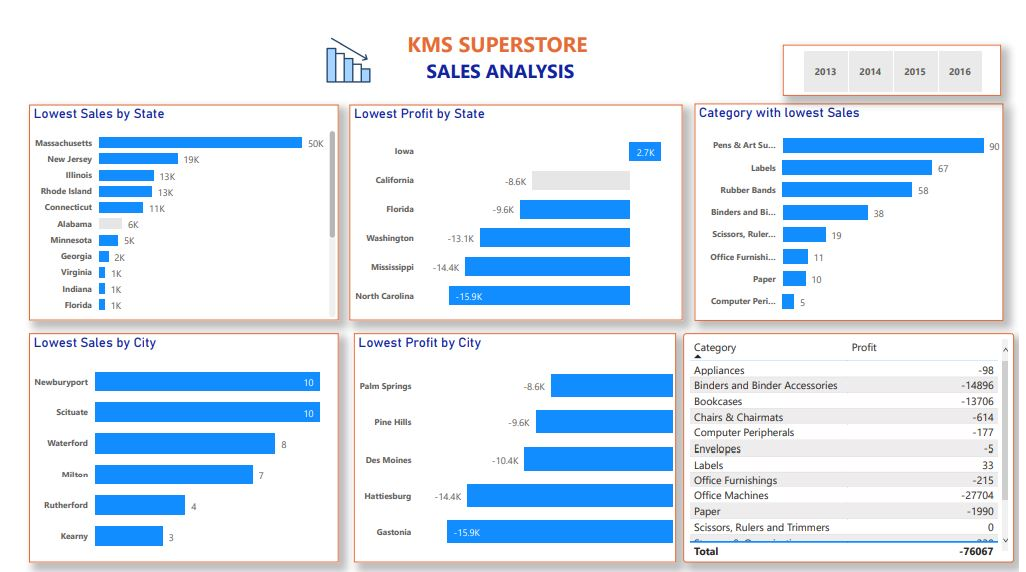

What the dashboard file says about the page in this screenshot:
{"tool":"powerbi","page":{"name":"low sales","canvas":[1280,720],"ordinal":4},"visuals":[{"type":"clusteredBarChart","title":"Lowest Sales by City","fields":{"Y":["Sum(Store.Sales)"],"Category":["Store.City"]},"box":[22.8,400.3,393.3,291.5],"z":0},{"type":"clusteredBarChart","title":" Lowest Sales by State","fields":{"Category":["Store.State"],"Y":["Sum(Store.Sales)"]},"box":[22.8,110.6,393.3,273.9],"z":1000},{"type":"clusteredBarChart","title":"Lowest Profit by State","fields":{"Y":["Sum(Store.Profit)"],"Category":["Store.State"]},"box":[430.2,110.6,423.2,273.9],"z":2000},{"type":"clusteredBarChart","title":"Lowest Profit by City","fields":{"Category":["Store.City"],"Y":["Sum(Store.Profit)"]},"box":[435.4,400.3,409.1,291.5],"z":3000},{"type":"clusteredBarChart","title":"Category with lowest Sales  ","fields":{"Category":["Store.Category"],"Y":["Sum(Store.Sales)"]},"box":[867.4,108.9,391.6,275.7],"z":4000},{"type":"tableEx","title":"Category with lowest profit","fields":{"Values":["Store.Category","Sum(Store.Profit)"]},"box":[853.3,400.3,419.6,291.5],"z":5000},{"type":"textbox","box":[398.1,10.1,446.9,77.6],"z":6000},{"type":"image","box":[380.8,20.1,96.3,67.5],"z":7000},{"type":"slicer","fields":{"Values":["Store.Order Date.Variation.Date Hierarchy.Year"]},"box":[980.1,34.5,277.4,64.7],"z":8000}]}

Visuals, with their boxes in screenshot pixels (x1, y1, x2, y2), scaled from the page's 1280x720 canvas onto the 1026x572 screenshot:
"Lowest Sales by City" clusteredBarChart: [left=18, top=318, right=334, bottom=550]
" Lowest Sales by State" clusteredBarChart: [left=18, top=88, right=334, bottom=305]
"Lowest Profit by State" clusteredBarChart: [left=345, top=88, right=684, bottom=305]
"Lowest Profit by City" clusteredBarChart: [left=349, top=318, right=677, bottom=550]
"Category with lowest Sales  " clusteredBarChart: [left=695, top=87, right=1009, bottom=306]
"Category with lowest profit" tableEx: [left=684, top=318, right=1020, bottom=550]
textbox: [left=319, top=8, right=677, bottom=70]
image: [left=305, top=16, right=382, bottom=70]
slicer - Store.Order Date.Variation.Date Hierarchy.Year: [left=786, top=27, right=1008, bottom=79]
